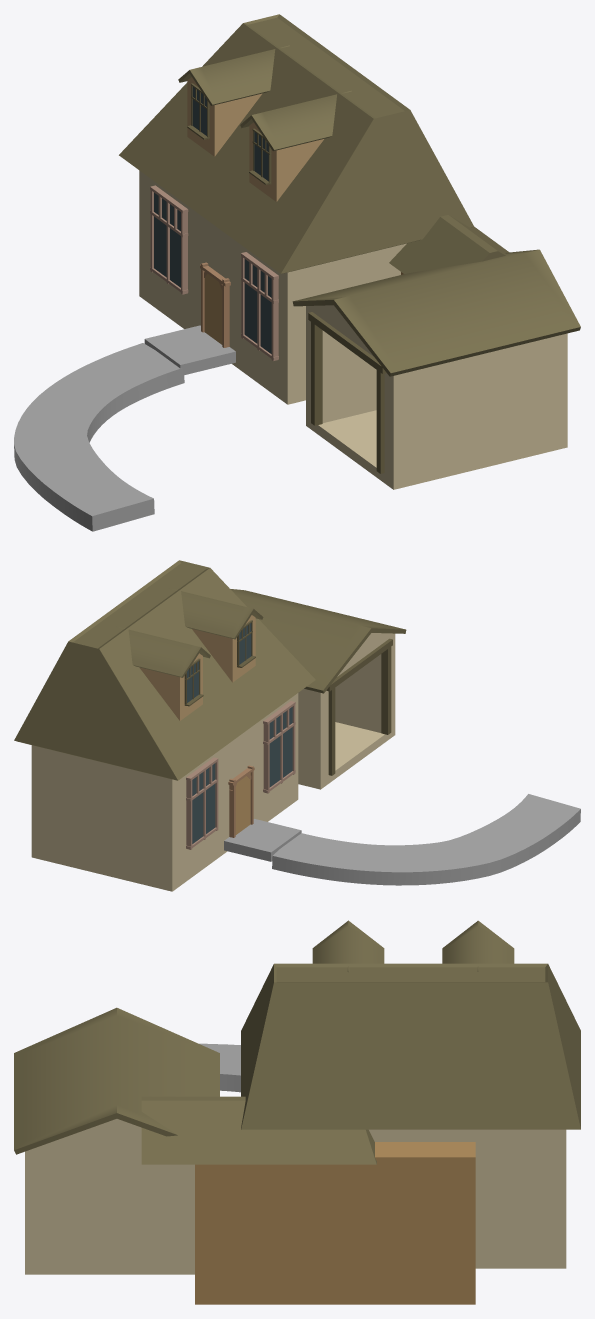
File: house3.fbx
The picture shows the model from 3 angles, top to bottom: view 1: azimuth 30°, elevation 25°; view 2: azimuth 150°, elevation 25°; view 3: azimuth 270°, elevation 25°; orthographic projection. The views are drawn at different scales.
Visible parts, largest first — view 1: house3; view 2: house3; view 3: house3.
Boxes of the visible parts, left/top/right/bottom form: house3: left=14, top=14, right=580, bottom=531; house3: left=14, top=560, right=580, bottom=891; house3: left=14, top=920, right=580, bottom=1304.
Bounding box in the file's own units: 1892 × 1061 × 1886.
